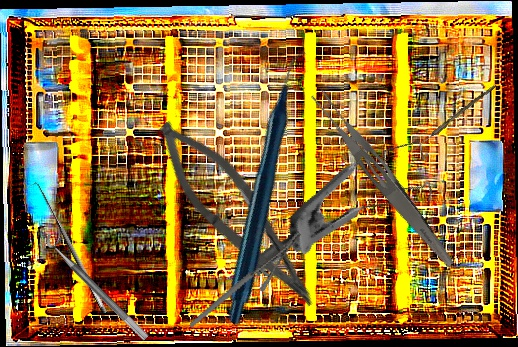Dressing Forceps: (305, 84, 464, 271)
Fixation Ring: (41, 225, 158, 342)
Handpiece: (125, 47, 413, 329)
Hook Surgical: (24, 179, 110, 320)
Micro Scissor: (138, 108, 340, 319)
Needle Holder: (172, 230, 318, 328)
Speculum: (251, 98, 453, 327)
Surgical Spoon: (409, 82, 497, 155)
